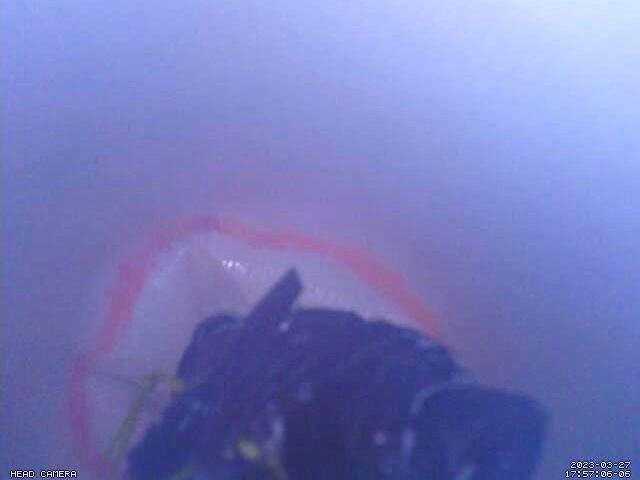head: (63, 212, 444, 480)
